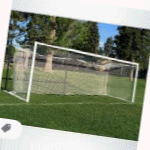goals: (5, 40, 140, 109)
